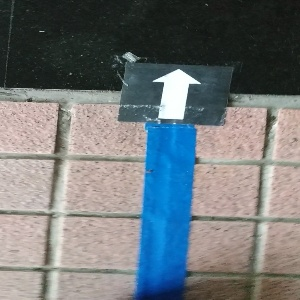straight: (118, 62, 234, 125)
